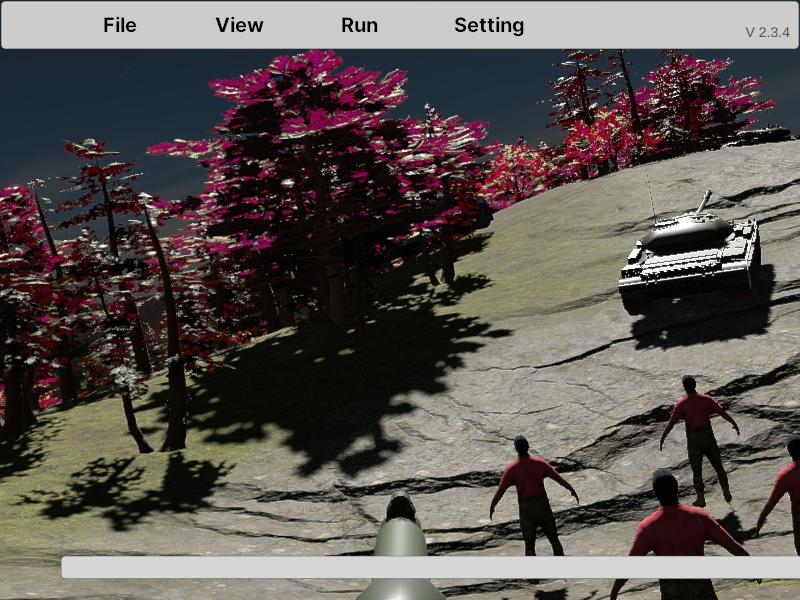Human: (609, 468, 754, 600), (489, 433, 579, 576), (660, 374, 740, 508), (755, 431, 800, 600)
Tank: (619, 191, 762, 316)
